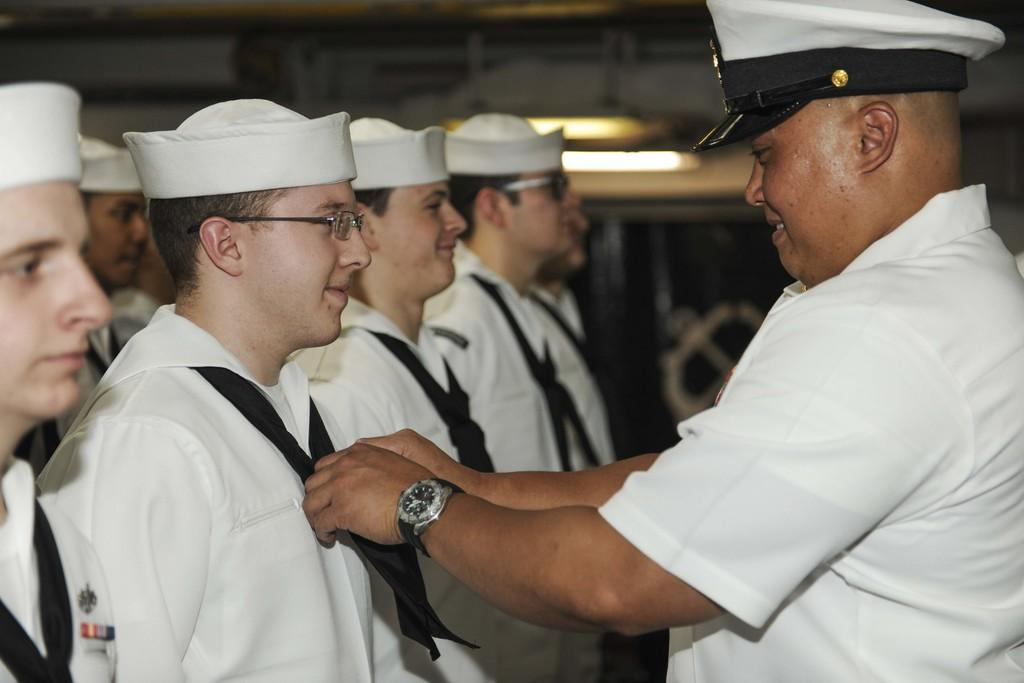Hat: (692, 0, 1008, 153)
